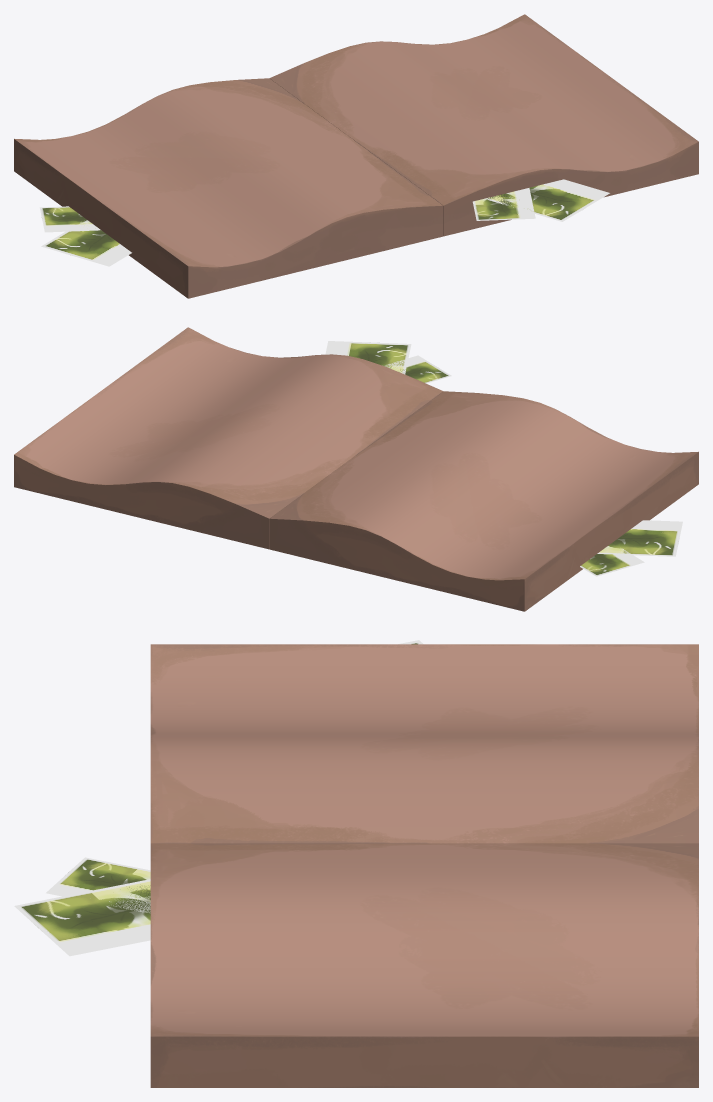
File: Pages.FBX
3 views of the same model, one above another, from view 1: azimuth 30°, elevation 25°; view 2: azimuth 150°, elevation 25°; view 3: azimuth 270°, elevation 25° (orthographic). The views are drawn at different scales.
Visible parts, largest first — view 1: Line001, Plane001, Plane003, Plane002, Plane004; view 2: Line001, Plane003, Plane001, Plane004, Plane002; view 3: Line001, Plane001, Plane002.
Part boxes in pixels (left/top/right/bottom): Line001: left=14, top=14, right=698, bottom=298; Plane001: left=486, top=179, right=609, bottom=221; Plane003: left=41, top=222, right=131, bottom=266; Plane002: left=472, top=188, right=535, bottom=220; Plane004: left=39, top=206, right=100, bottom=232; Line001: left=14, top=327, right=698, bottom=611; Plane003: left=597, top=520, right=682, bottom=556; Plane001: left=325, top=341, right=411, bottom=374; Plane004: left=580, top=549, right=644, bottom=576; Plane002: left=385, top=355, right=451, bottom=383; Line001: left=150, top=644, right=698, bottom=1087; Plane001: left=14, top=879, right=150, bottom=956; Plane002: left=46, top=857, right=150, bottom=912.
Bounding box in the file's own units: 380 × 250 × 27.34.
